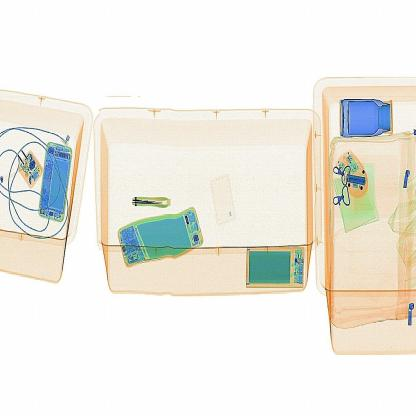wrench: (127, 194, 175, 212)
